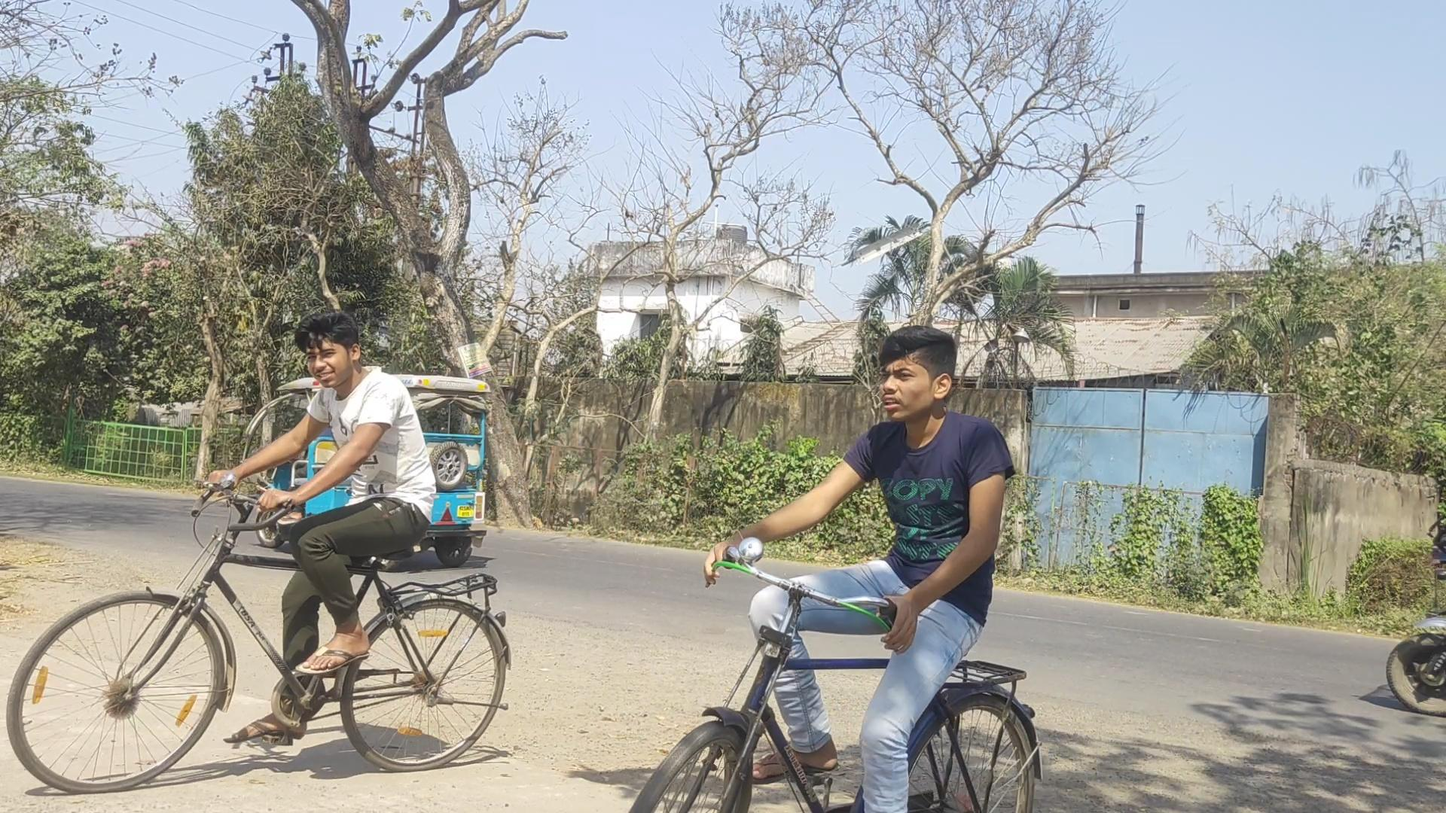Auto: (239, 372, 491, 573)
bike: (5, 311, 512, 795), (630, 327, 1043, 813)
